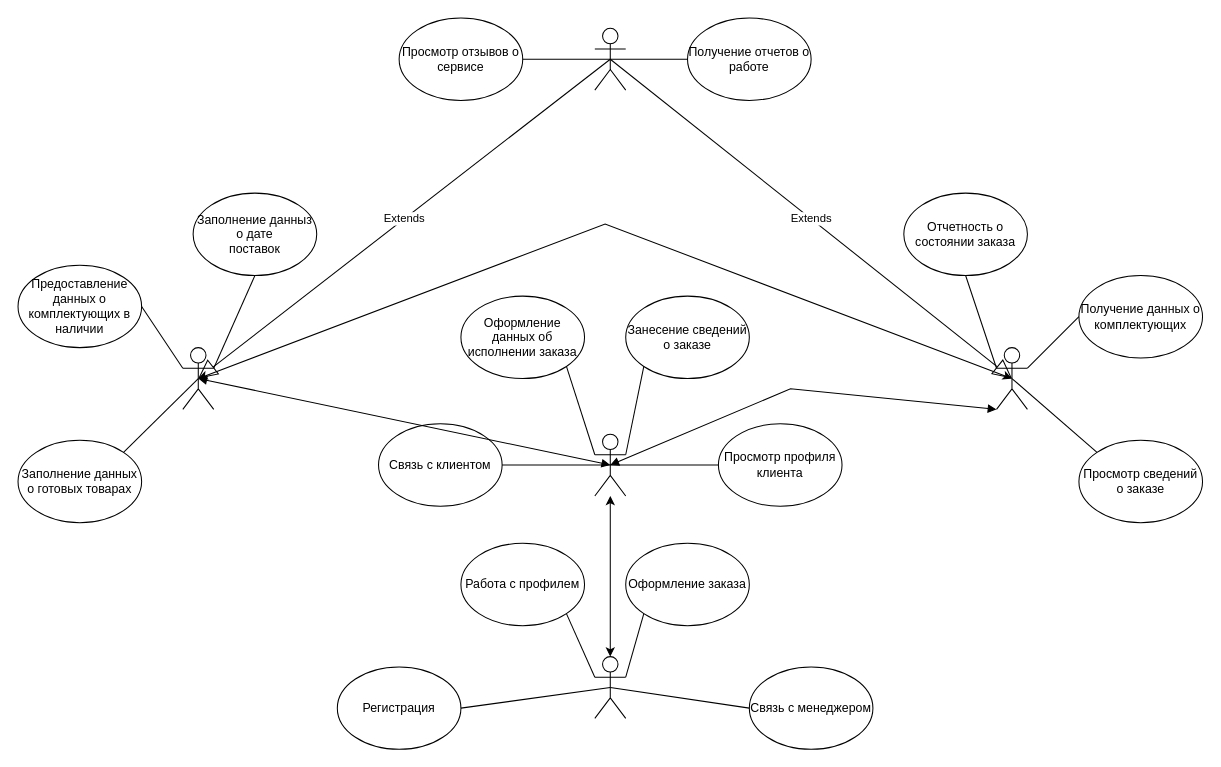
The diagram is 1221 pixels wide and 767 high, and some of its shapes have lost their labels. The box of each missing label's shape, as (x1, y1, x2, y2) in pixels:
Заведующий складом: (182, 347, 214, 409)
Клиент: (594, 656, 626, 718)
Мастер: (995, 347, 1027, 409)
Менеджер: (594, 433, 626, 496)
Начальник: (594, 27, 626, 90)
